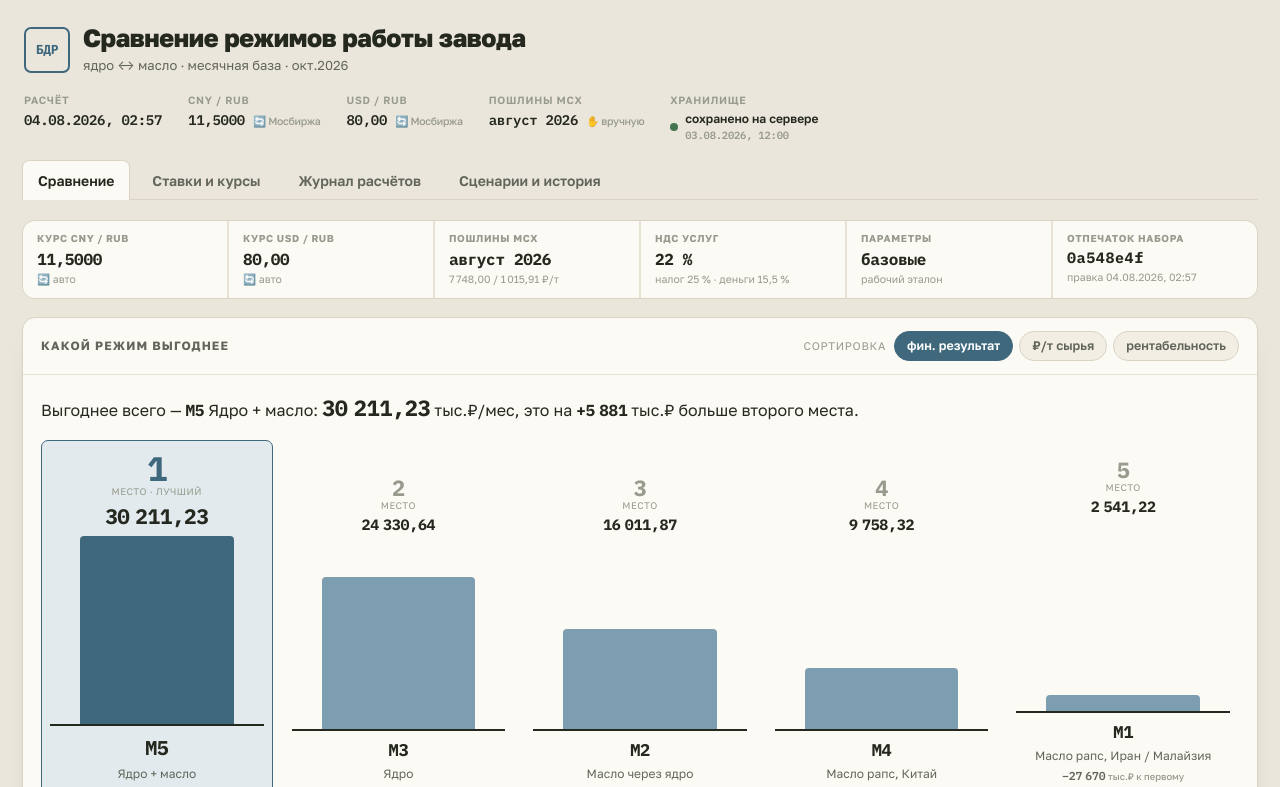
Подтверждённая ставка › показана с продуктом, значением, месяцем и числом источников
Click the button "Ставки и курсы" at (206, 180), box [136,160,277,200]
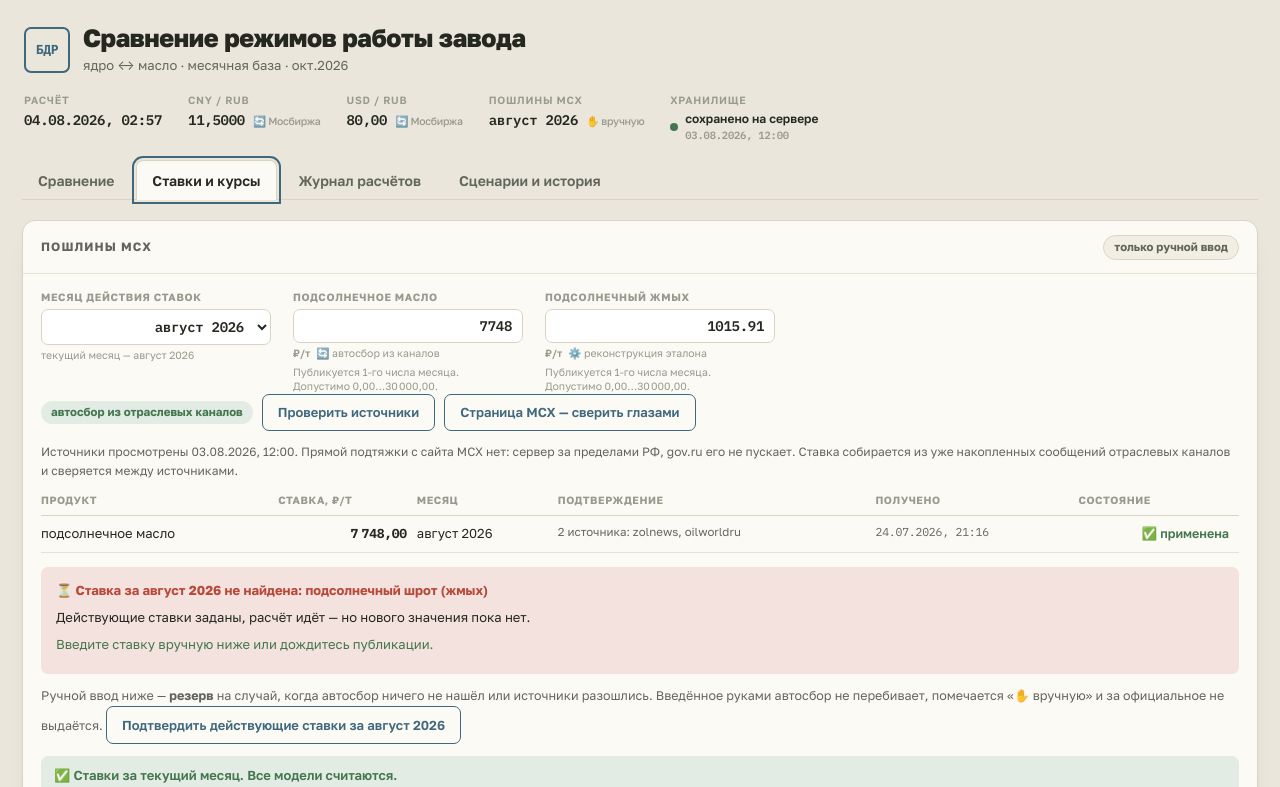
Expected: the text "7 748,00" is shown, [278,516,417,553]
Expected: the text "2 источника: zolnews, oilworldru" is shown, [558,525,741,539]
